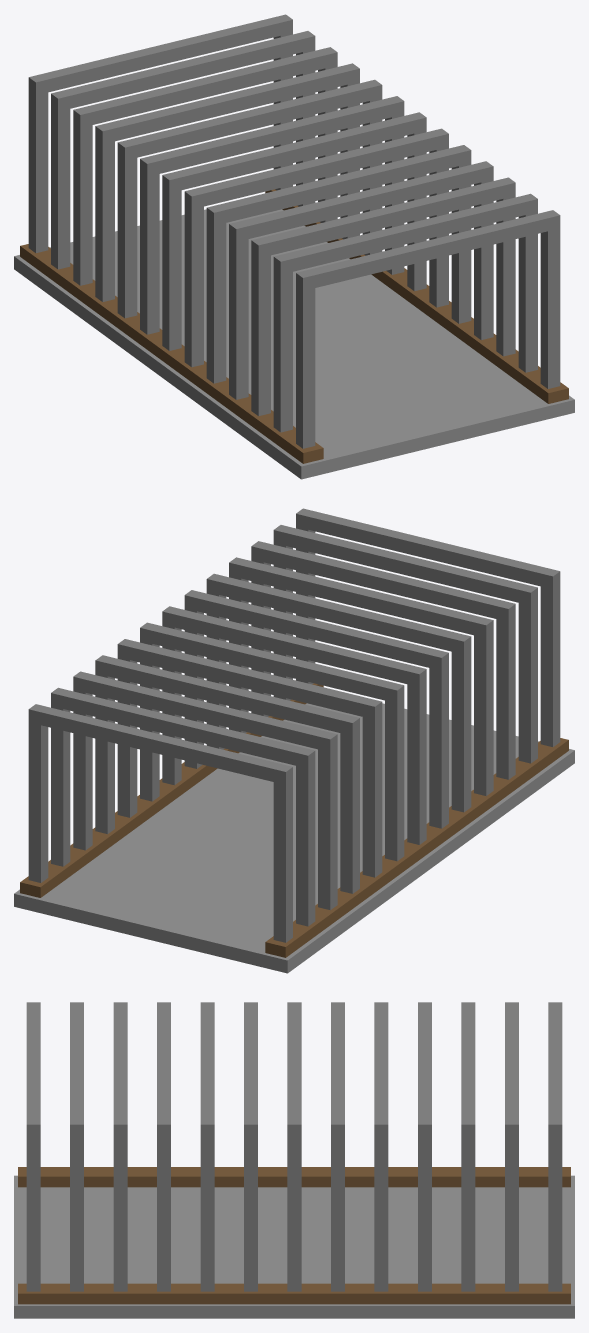
File: Drainer_01.fbx
3 views of the same model, one above another, from view 1: azimuth 30°, elevation 25°; view 2: azimuth 150°, elevation 25°; view 3: azimuth 270°, elevation 25° (orthographic). The views are drawn at different scales.
Parts seen in each view (by area): view 1: Drainer_01; view 2: Drainer_01; view 3: Drainer_01.
Part boxes in pixels (x1,y1,x2,y2): Drainer_01: (14,14,574,479); Drainer_01: (14,508,574,973); Drainer_01: (14,1002,574,1318).
Bounding box in the file's own units: 0.22 × 0.1496 × 0.4.
